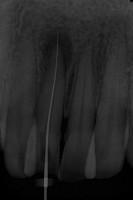Furcation Involvement: (41, 25, 74, 72)
